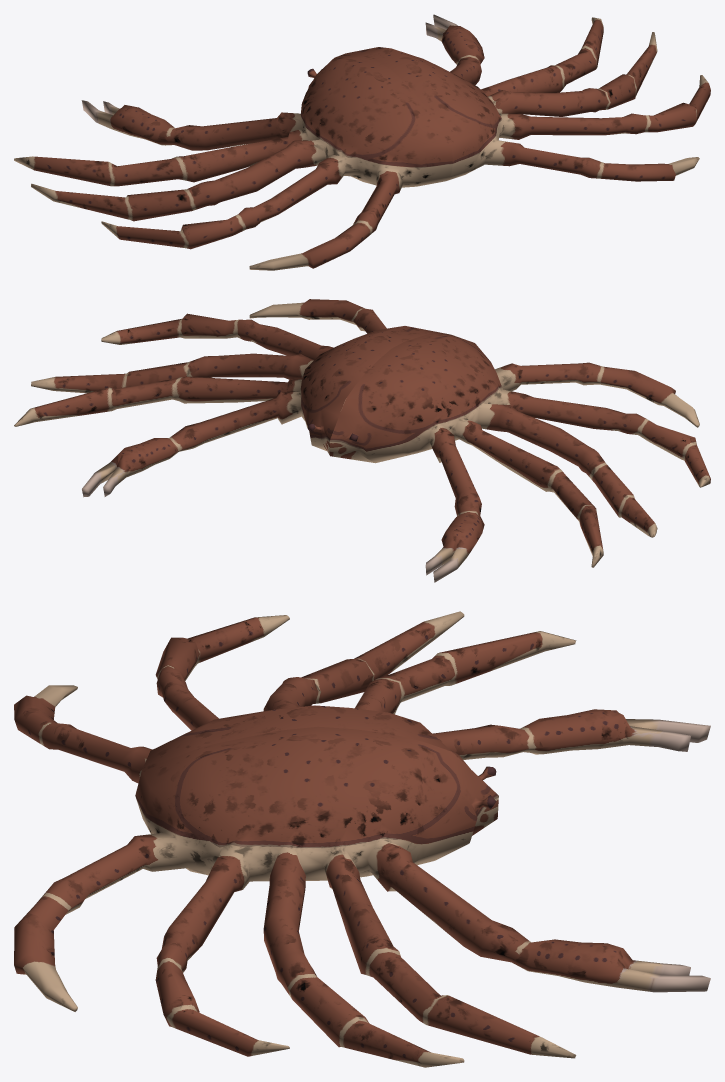
The model's file is snowCrab00.fbx.
3 renders of one model, top to bottom at view 1: azimuth 30°, elevation 25°; view 2: azimuth 150°, elevation 25°; view 3: azimuth 270°, elevation 25°, orthographic. The views are drawn at different scales.
Visible parts, largest first — view 1: snowCrab_temp.002; view 2: snowCrab_temp.002; view 3: snowCrab_temp.002.
Part boxes in pixels (<box>): snowCrab_temp.002: <box>14,14,710,270</box>; snowCrab_temp.002: <box>14,299,710,582</box>; snowCrab_temp.002: <box>14,611,710,1067</box>.
Size of the model in its own units: 1.26 by 0.1899 by 0.83.
1 material, 1 textured.
